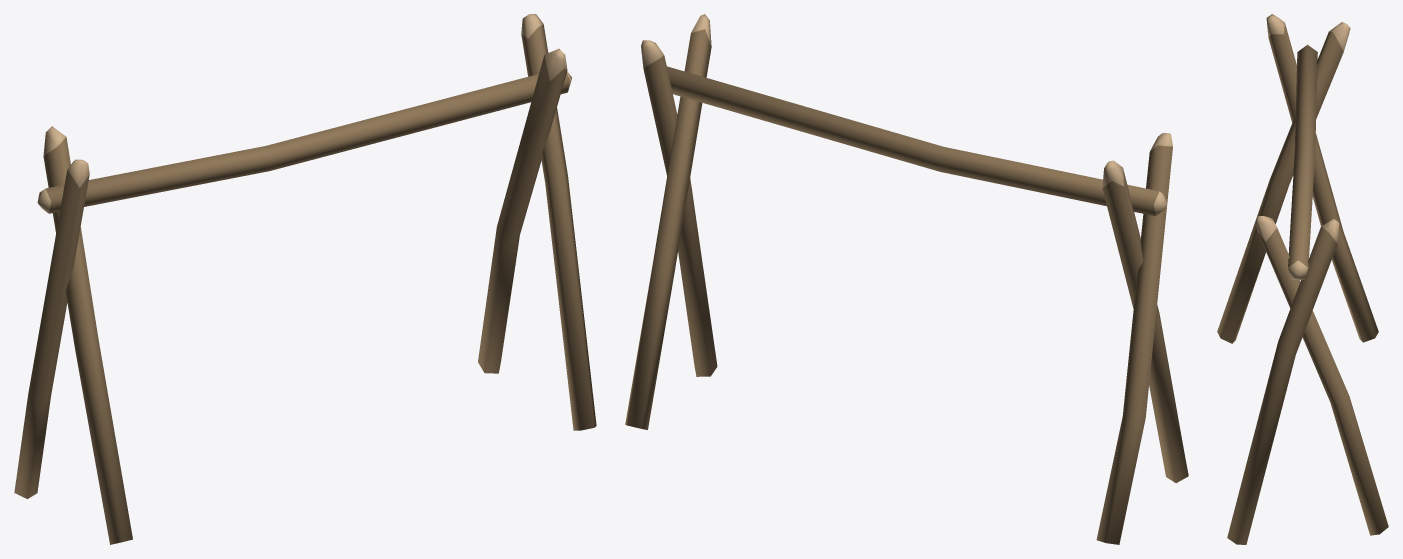
Rendered from rpgpp_ag_hanger_wood_02a.fbx.
3 views of the same model, side by side, from view 1: azimuth 30°, elevation 25°; view 2: azimuth 150°, elevation 25°; view 3: azimuth 270°, elevation 25° (orthographic). The views are drawn at different scales.
Parts seen in each view (by area): view 1: rpgpp_ag_hanger_wood_02a; view 2: rpgpp_ag_hanger_wood_02a; view 3: rpgpp_ag_hanger_wood_02a.
Boxes of the visible parts, x1,y1,x2,y2 form: rpgpp_ag_hanger_wood_02a: (14,14,596,544); rpgpp_ag_hanger_wood_02a: (625,14,1188,544); rpgpp_ag_hanger_wood_02a: (1217,14,1388,544).
Size of the model in its own units: 2.23 by 1.52 by 0.7267.
